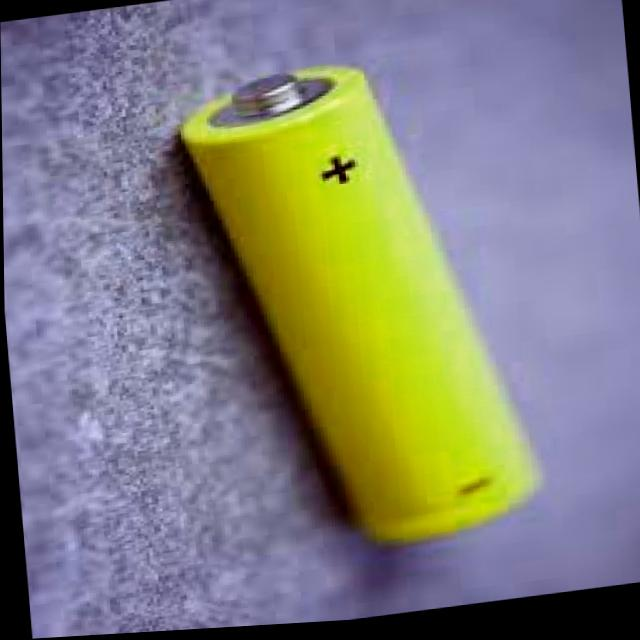B3: (153, 14, 593, 582)
